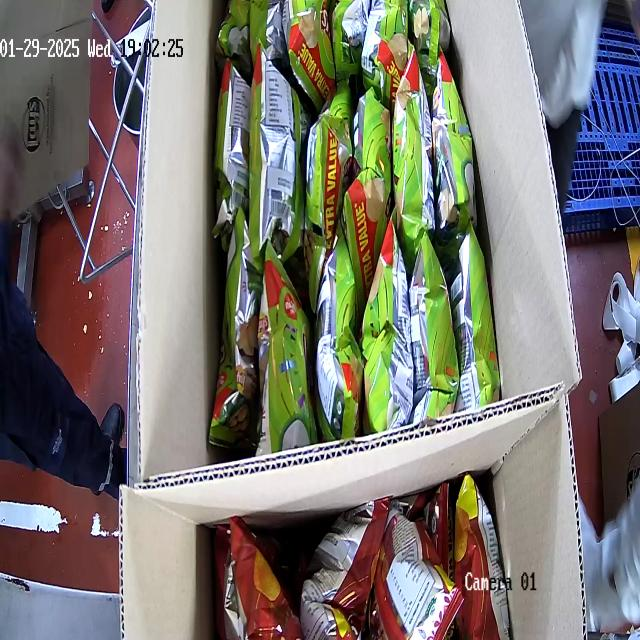YOGURT_HERB: (208, 0, 501, 455)
